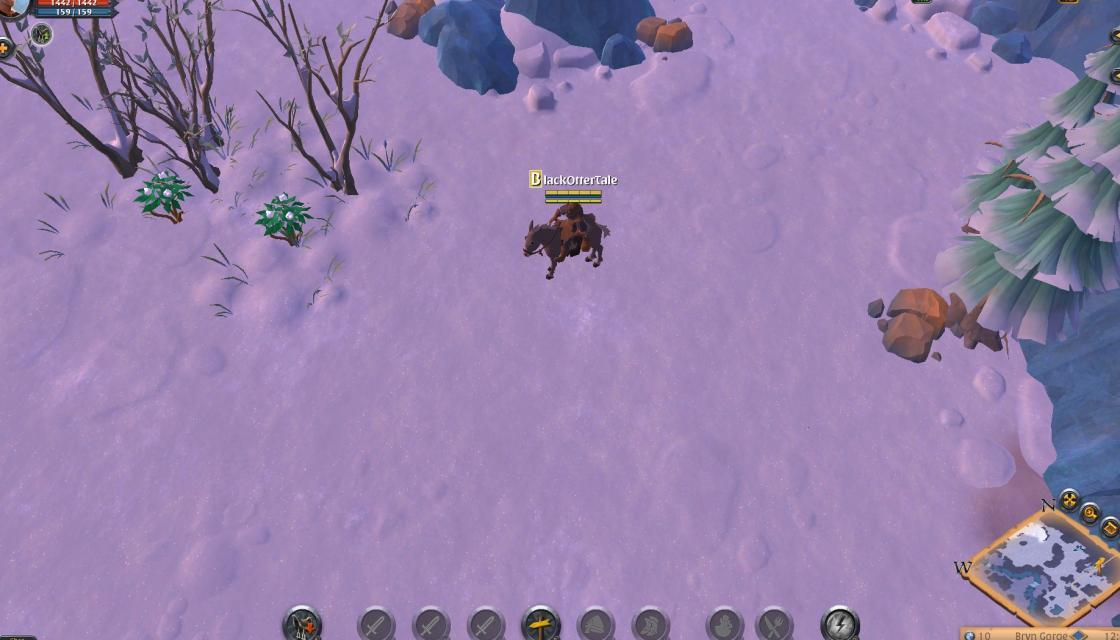limestone: (874, 284, 958, 364), (636, 9, 698, 56), (382, 0, 440, 38)
